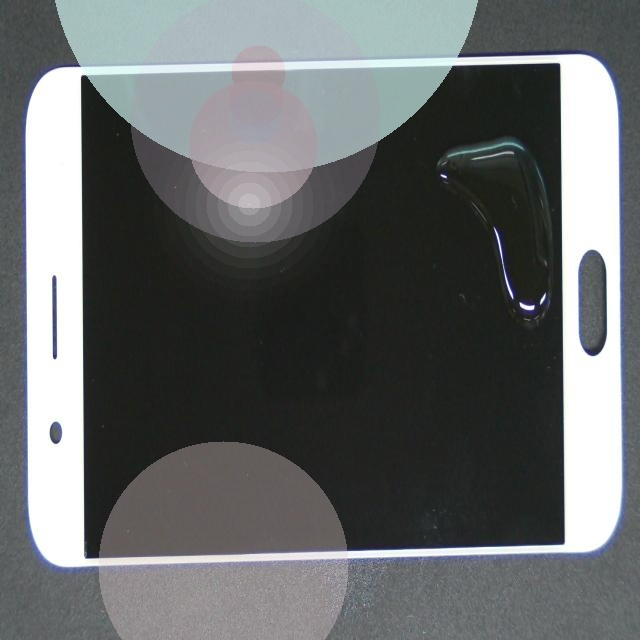oil: (293, 202, 640, 347)
